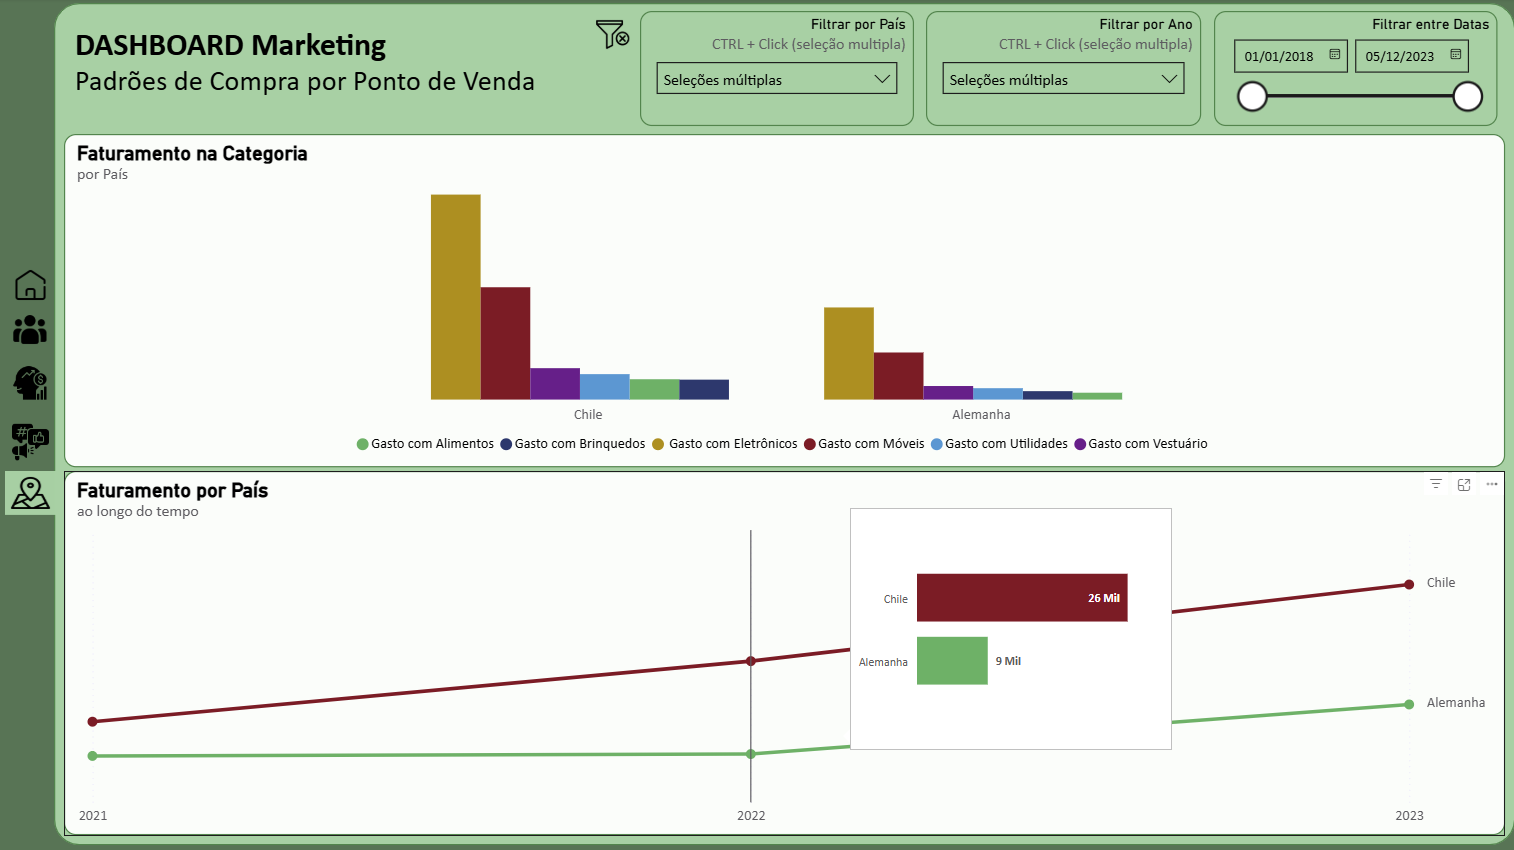

This screenshot's page, from the dashboard's own definition file:
{"tool":"powerbi","page":{"name":"Visão Pontos de Venda","canvas":[1280,720],"ordinal":4},"visuals":[{"type":"group","id":"g1","title":"Grupo 1","box":[48.2,4.5,1231.8,710],"z":0},{"type":"shape","box":[48.2,4.5,1231.8,710],"z":0,"group":"g1"},{"type":"textbox","box":[60.8,17.6,472.7,73.6],"z":1000,"group":"g1"},{"type":"clusteredColumnChart","title":"Faturamento na Categoria","fields":{"Category":["Dados_Marketing.Pais"],"Y":["Sum(Dados_Marketing.Gasto com Alimentos)","Sum(Dados_Marketing.Gasto com Brinquedos)","Sum(Dados_Marketing.Gasto com Eletronicos)","Sum(Dados_Marketing.Gasto com Moveis)","Sum(Dados_Marketing.Gasto com Utilidades)","Sum(Dados_Marketing.Gasto com Vestuario)"]},"box":[56.3,114.5,1215.5,280.9],"z":1000},{"type":"lineChart","title":"Faturamento por País","fields":{"Y":["Dados_Marketing.Total_Gasto"],"Category":["Dados_Marketing.Data Cadastro.Variation.Hierarquia de datas.Ano"],"Series":["Dados_Marketing.Pais"]},"box":[56.3,399.1,1215.5,307.3],"z":2000},{"type":"group","id":"g2","title":"Grupo 5","box":[7,223.6,42.7,212.7],"z":3000},{"type":"image","box":[7,398.9,42.7,37.3],"z":3000,"group":"g3"},{"type":"slicer","title":"Filtrar por Ano","fields":{"Values":["Dados_Marketing.Data Cadastro.Variation.Hierarquia de datas.Ano"]},"box":[783.7,10.9,231.8,97.3],"z":4000,"group":"g1"},{"type":"image","box":[498.9,11.9,39.8,37.8],"z":4000},{"type":"image","box":[7,260.7,42.7,38.2],"z":4000,"group":"g3"},{"type":"slicer","title":"Filtrar por País","fields":{"Values":["Dados_Marketing.Pais"]},"box":[541.8,10.9,230.9,97.3],"z":5000,"group":"g1"},{"type":"group","id":"g3","title":"Grupo 2","box":[7,260.7,42.7,175.5],"z":5000,"group":"g2"},{"type":"image","box":[7,303.4,42.7,41.8],"z":5000,"group":"g3"},{"type":"slicer","title":"Filtrar entre Datas","fields":{"Values":["Dados_Marketing.Data Cadastro"]},"box":[1026.4,10.9,239.1,97.3],"z":6000,"group":"g1"},{"type":"image","box":[7,223.6,42.6,37.2],"z":6000,"group":"g2"},{"type":"image","box":[7,349.8,42.7,48.2],"z":6000,"group":"g3"}]}

Visuals, with their boxes on the page's 1280x720 design canvas (x1, y1, x2, y2). These are canvas units, not pixel positions in the 1514x850 screenshot, which may show the page scaled, cropped or inside an application window:
"Grupo 1" group: [x1=48, y1=4, x2=1280, y2=714]
shape: [x1=48, y1=4, x2=1280, y2=714]
textbox: [x1=61, y1=18, x2=534, y2=91]
"Faturamento na Categoria" clusteredColumnChart: [x1=56, y1=114, x2=1272, y2=395]
"Faturamento por País" lineChart: [x1=56, y1=399, x2=1272, y2=706]
"Grupo 5" group: [x1=7, y1=224, x2=50, y2=436]
image: [x1=7, y1=399, x2=50, y2=436]
"Filtrar por Ano" slicer: [x1=784, y1=11, x2=1016, y2=108]
image: [x1=499, y1=12, x2=539, y2=50]
image: [x1=7, y1=261, x2=50, y2=299]
"Filtrar por País" slicer: [x1=542, y1=11, x2=773, y2=108]
"Grupo 2" group: [x1=7, y1=261, x2=50, y2=436]
image: [x1=7, y1=303, x2=50, y2=345]
"Filtrar entre Datas" slicer: [x1=1026, y1=11, x2=1266, y2=108]
image: [x1=7, y1=224, x2=50, y2=261]
image: [x1=7, y1=350, x2=50, y2=398]
